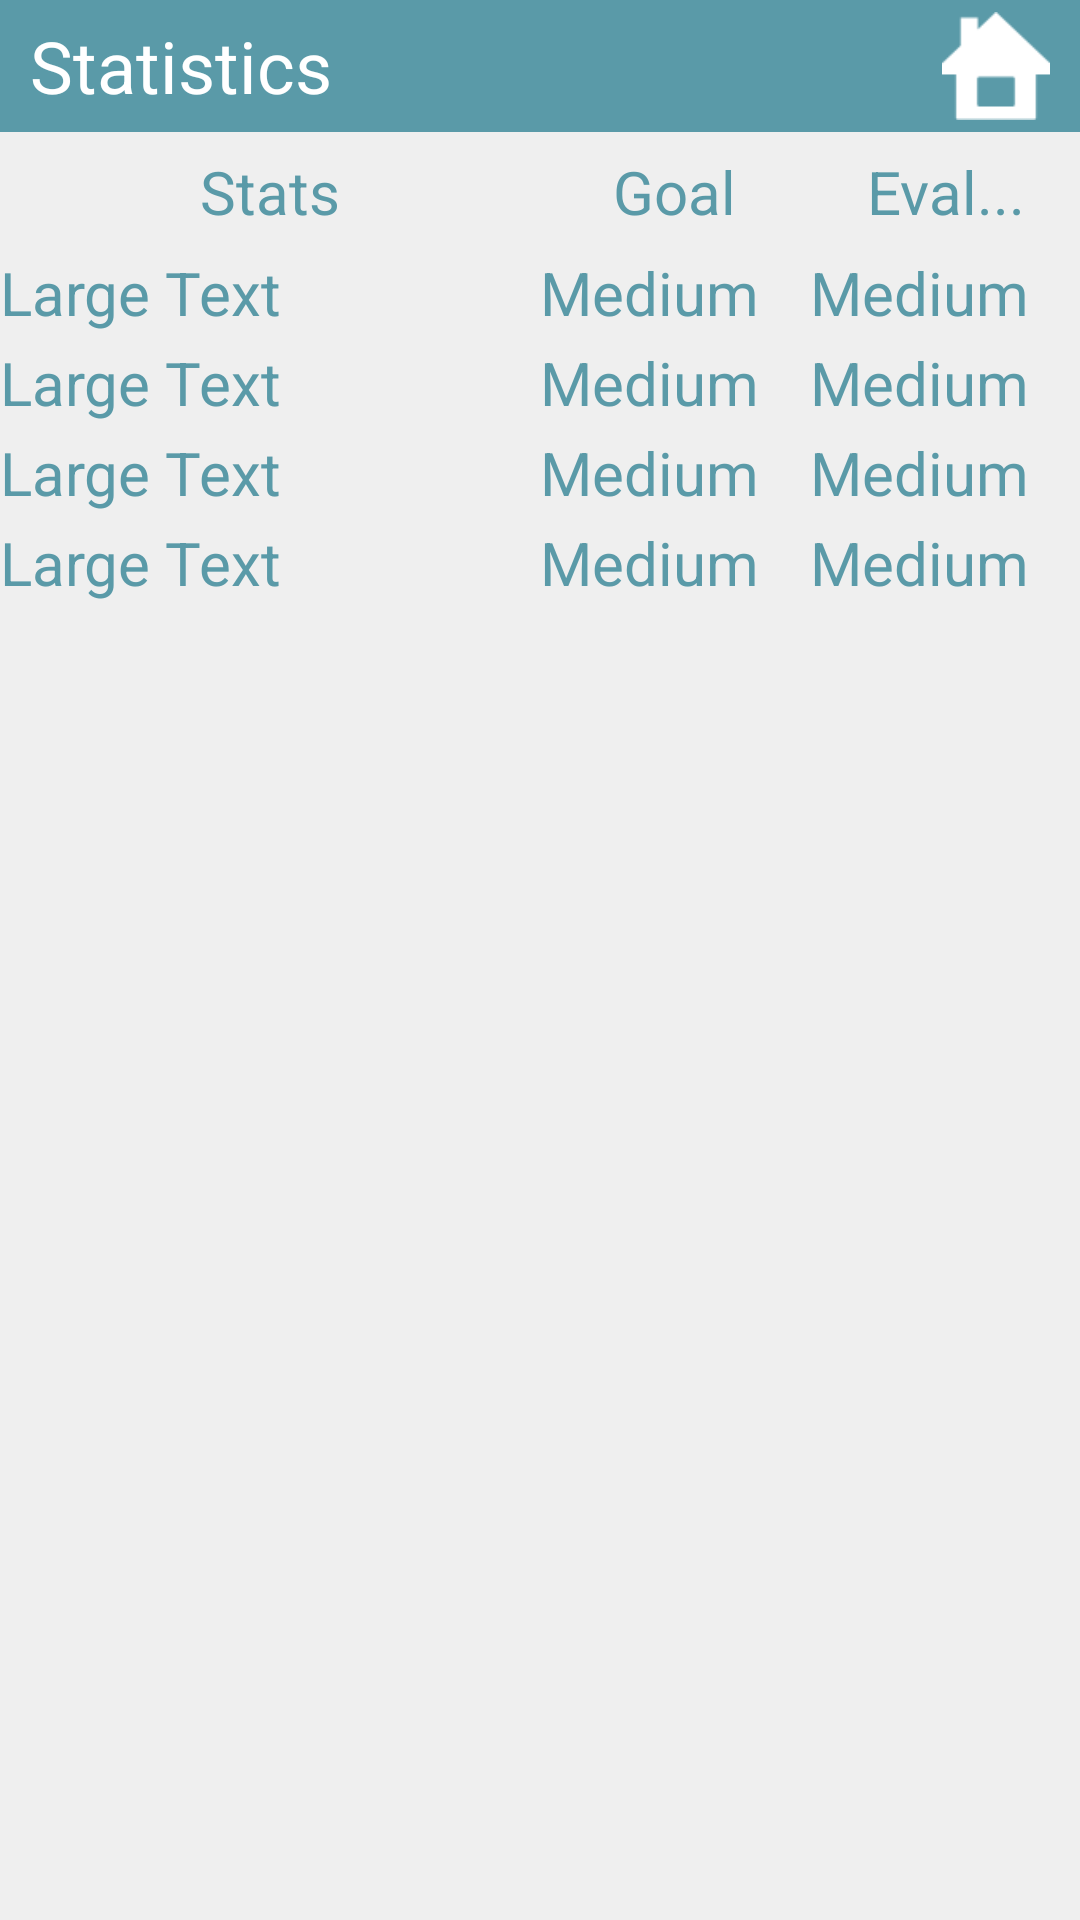

Screen size 1080w x 1920h. Icon name, then its box in pixels as rect(x1, y1, x2, y2):
home: rect(942, 12, 1050, 120)
